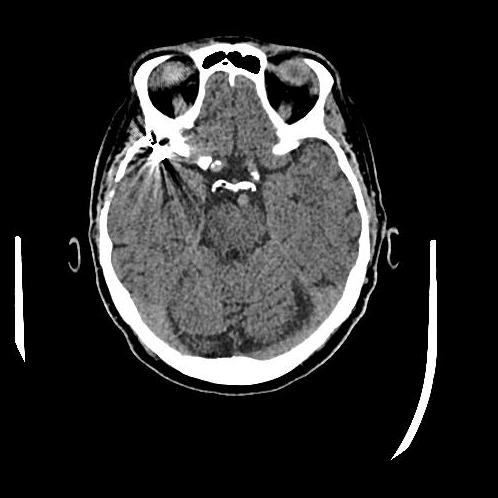Aneurysm: (138, 139, 181, 178)
